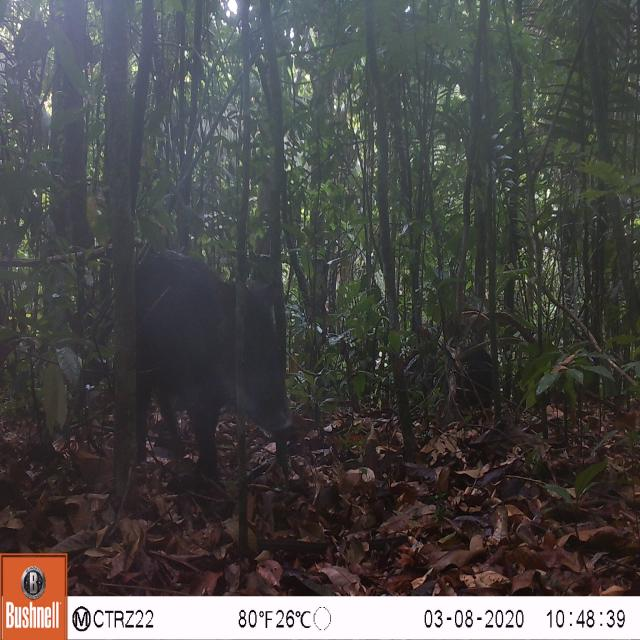White-lipped Peccary: (120, 244, 294, 489)
